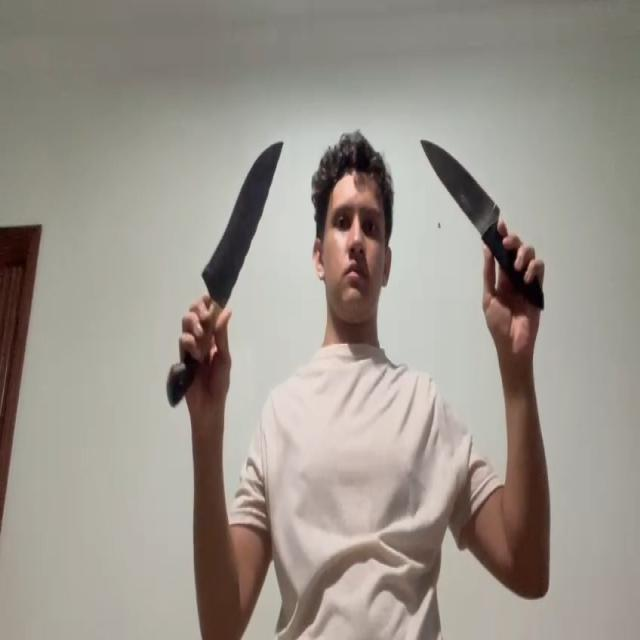knife: (202, 139, 286, 291), (419, 138, 500, 228)
